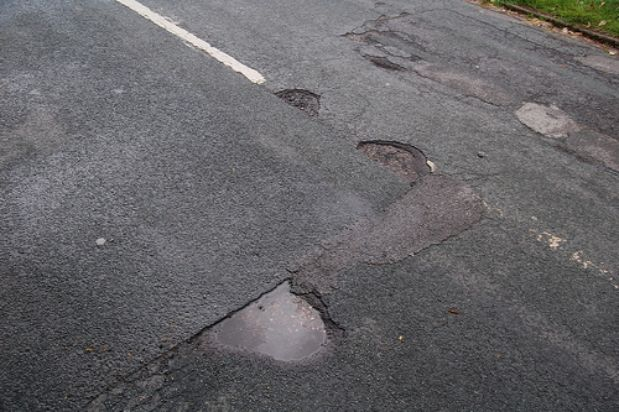pothole: (184, 274, 349, 365), (352, 135, 435, 183), (511, 98, 582, 141), (268, 84, 327, 116)
